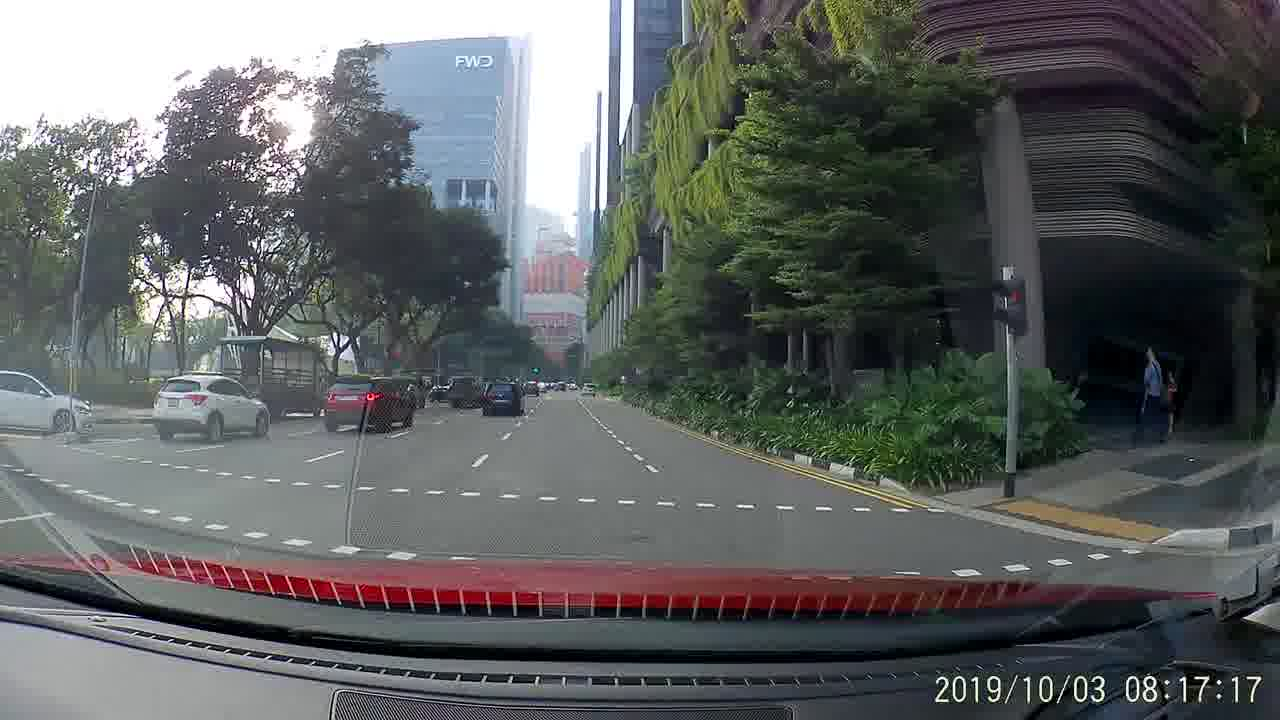car: (149, 371, 270, 448), (0, 367, 90, 437), (324, 374, 414, 435), (482, 379, 524, 418), (577, 379, 600, 400), (525, 379, 540, 397)
